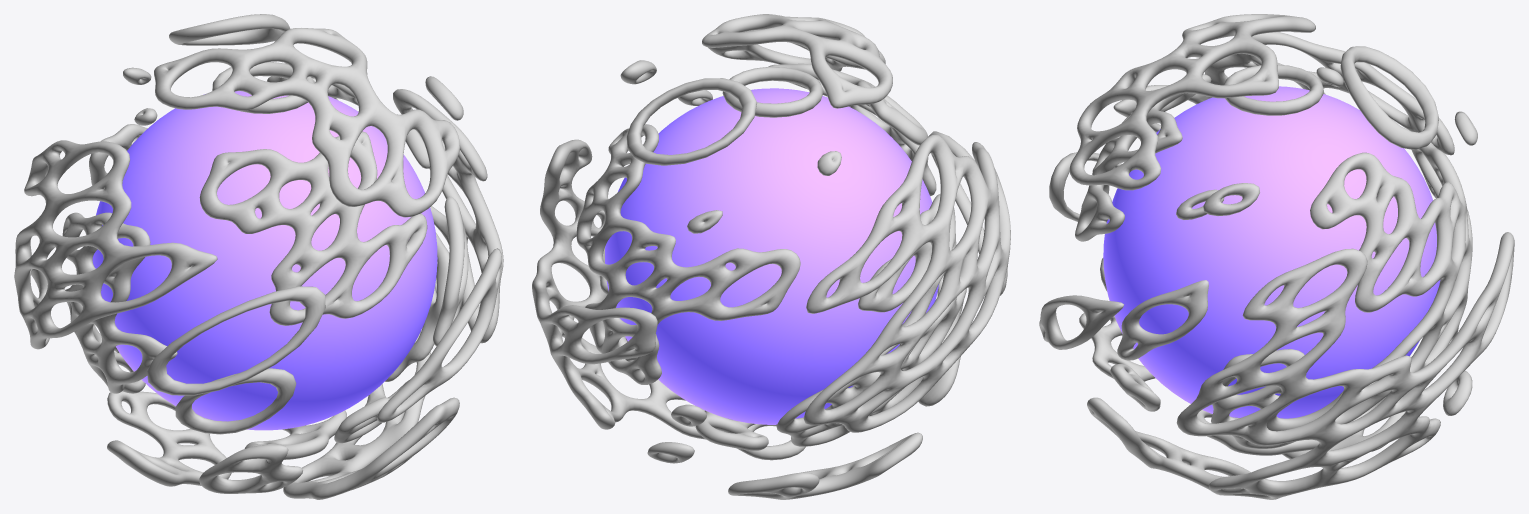
Rendered from abstract-circle.glb.
The picture shows the model from 3 angles, left to right: view 1: azimuth 30°, elevation 25°; view 2: azimuth 150°, elevation 25°; view 3: azimuth 270°, elevation 25°; orthographic projection. The views are drawn at different scales.
Visible parts, largest first — view 1: Plane, Icosphere; view 2: Plane, Icosphere; view 3: Plane, Icosphere.
Boxes of the visible parts, <box> form: Plane: <box>14,14,503,499</box>; Icosphere: <box>92,91,437,430</box>; Plane: <box>532,14,1010,499</box>; Icosphere: <box>605,88,938,424</box>; Plane: <box>1039,14,1514,499</box>; Icosphere: <box>1103,86,1440,418</box>.
Bounding box in the file's own units: 2.66 × 2.63 × 2.58.
